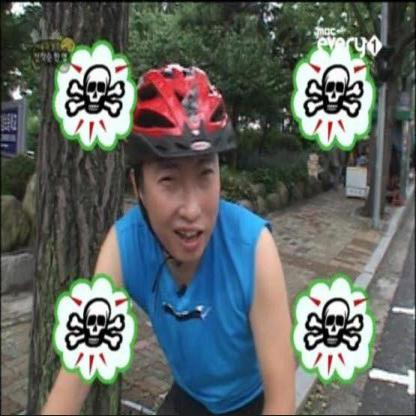skull: (301, 61, 363, 121), (64, 294, 128, 351), (303, 295, 364, 353), (64, 62, 126, 119)
